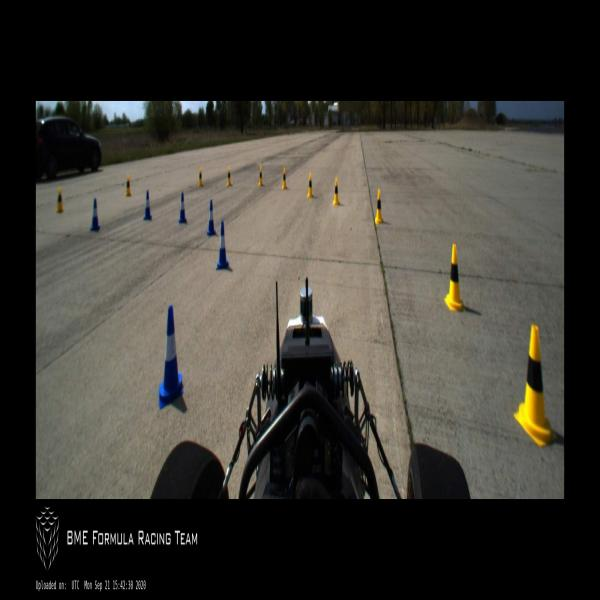blue_cone: (159, 306, 184, 409), (216, 220, 229, 270), (90, 199, 101, 232), (207, 200, 216, 235), (178, 192, 186, 223), (144, 190, 152, 221)
yellow_cone: (514, 324, 556, 446), (445, 243, 464, 312), (375, 189, 383, 223), (57, 186, 64, 212), (307, 172, 313, 198), (333, 179, 339, 205), (126, 176, 132, 196), (282, 168, 287, 189), (198, 168, 203, 188), (226, 166, 231, 186), (258, 166, 263, 186)
